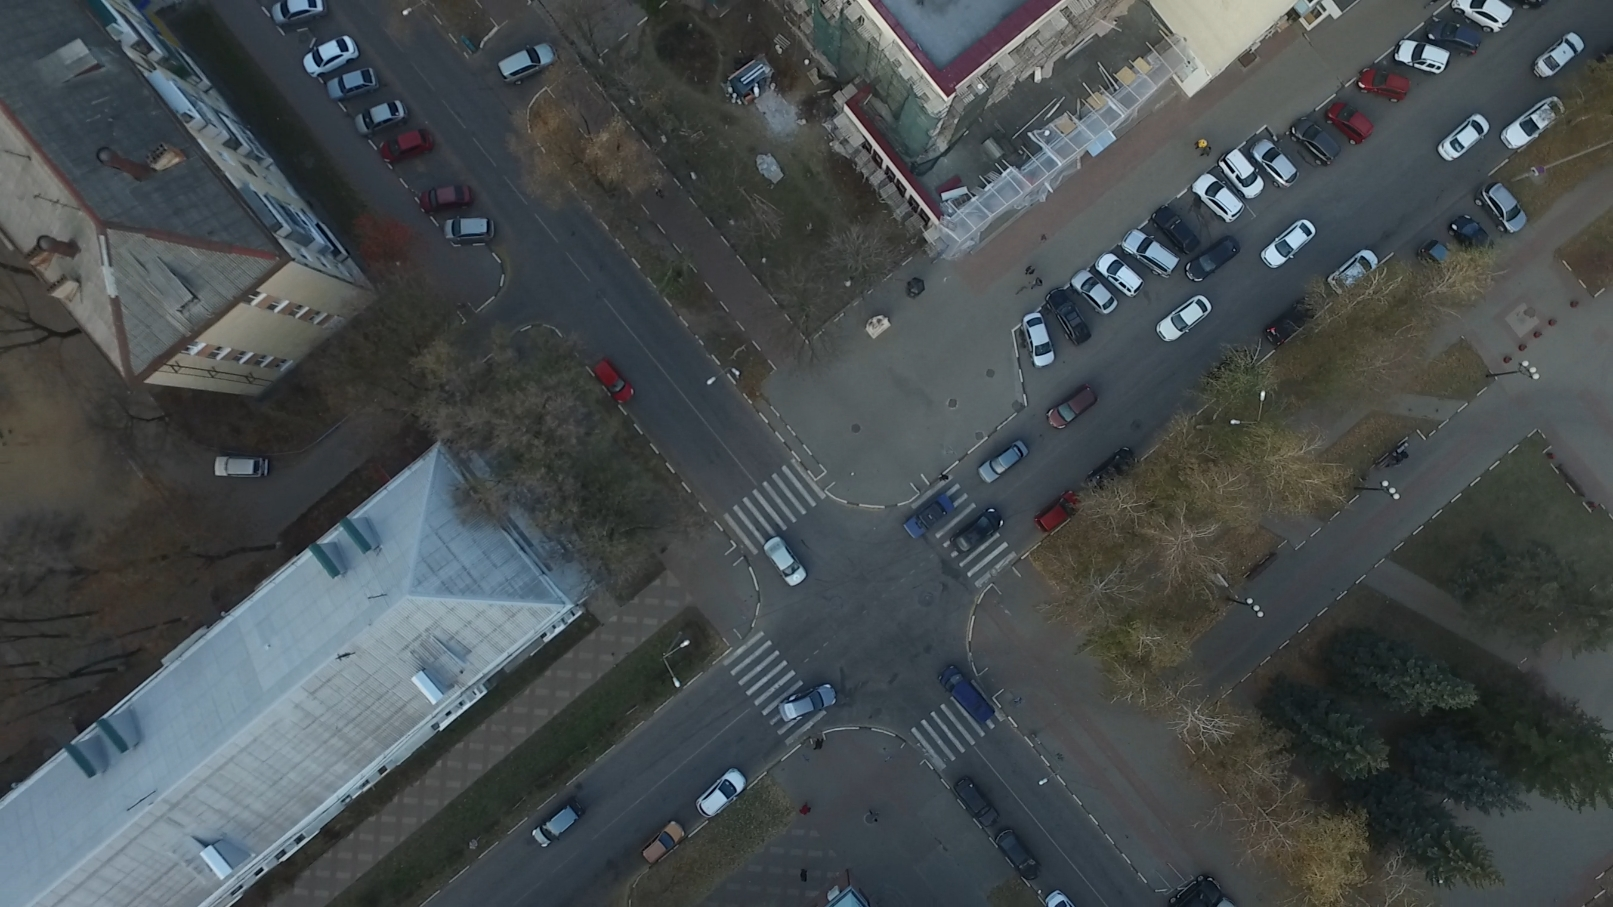car: (938, 663, 997, 724), (1500, 97, 1566, 150), (1121, 227, 1180, 281), (1257, 219, 1319, 268), (1472, 181, 1529, 234), (1531, 28, 1585, 82), (1155, 295, 1219, 340), (1184, 235, 1243, 284), (1191, 171, 1246, 221), (495, 44, 562, 86), (1264, 299, 1322, 347), (521, 802, 581, 847), (692, 769, 748, 817), (1045, 289, 1093, 344), (1434, 115, 1494, 159), (1095, 252, 1144, 305), (1251, 137, 1299, 190), (1290, 115, 1337, 168), (974, 441, 1034, 483), (1081, 446, 1137, 492), (997, 824, 1040, 882), (1324, 250, 1381, 293), (953, 776, 999, 829), (1069, 268, 1122, 315), (946, 507, 1001, 552), (1044, 385, 1099, 430), (1448, 209, 1498, 258), (304, 35, 364, 75), (1150, 205, 1202, 251), (782, 678, 841, 719), (902, 496, 958, 538), (1219, 150, 1268, 197), (1428, 17, 1479, 62), (1325, 97, 1373, 145), (764, 538, 809, 589), (1031, 488, 1083, 530), (1393, 35, 1444, 78), (643, 820, 690, 864), (590, 357, 634, 404), (355, 97, 405, 137), (1020, 309, 1055, 365), (1357, 65, 1407, 104), (378, 130, 435, 163), (1445, 1, 1508, 31), (1416, 237, 1459, 278), (268, 1, 327, 31), (321, 69, 378, 99), (214, 452, 268, 480), (442, 217, 494, 244), (419, 186, 472, 212)
